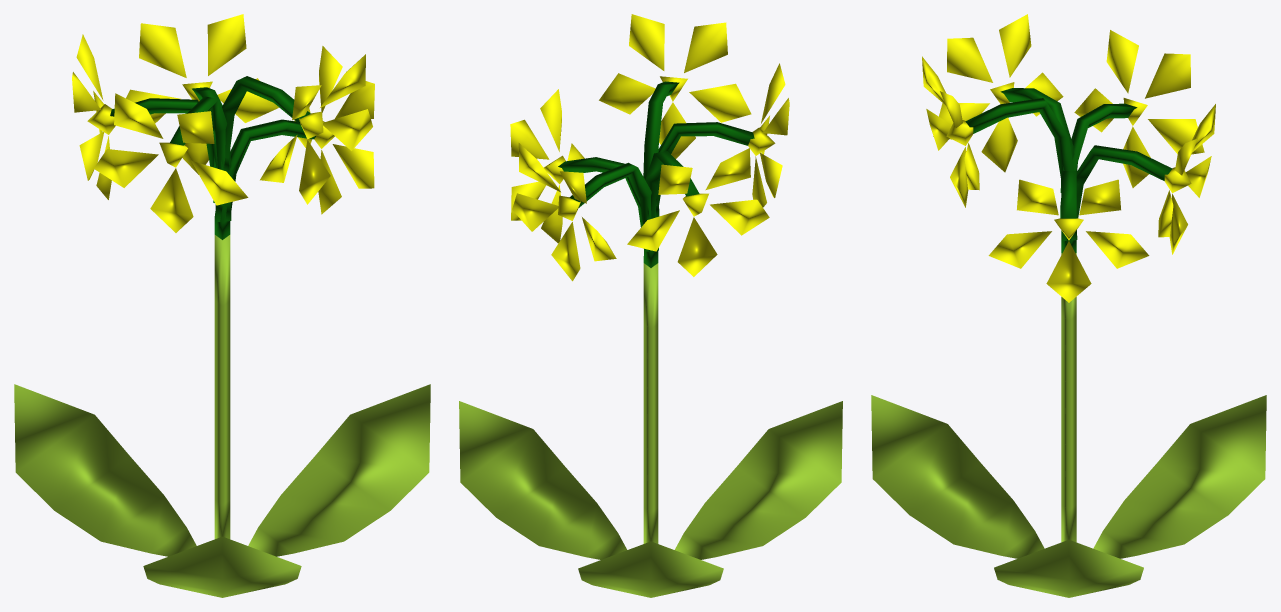
The model's file is primrose_0002.obj.
3 views of the same model, side by side, from view 1: azimuth 30°, elevation 25°; view 2: azimuth 150°, elevation 25°; view 3: azimuth 270°, elevation 25° (orthographic). The views are drawn at different scales.
Parts seen in each view (by area): view 1: primrose_0002; view 2: primrose_0002; view 3: primrose_0002.
Boxes of the visible parts, left/top/right/bottom form: primrose_0002: left=14, top=14, right=430, bottom=597; primrose_0002: left=459, top=14, right=842, bottom=597; primrose_0002: left=871, top=14, right=1266, bottom=597.
Size of the model in its own units: 2.22 by 3.25 by 2.28.
1 material, 1 textured.
